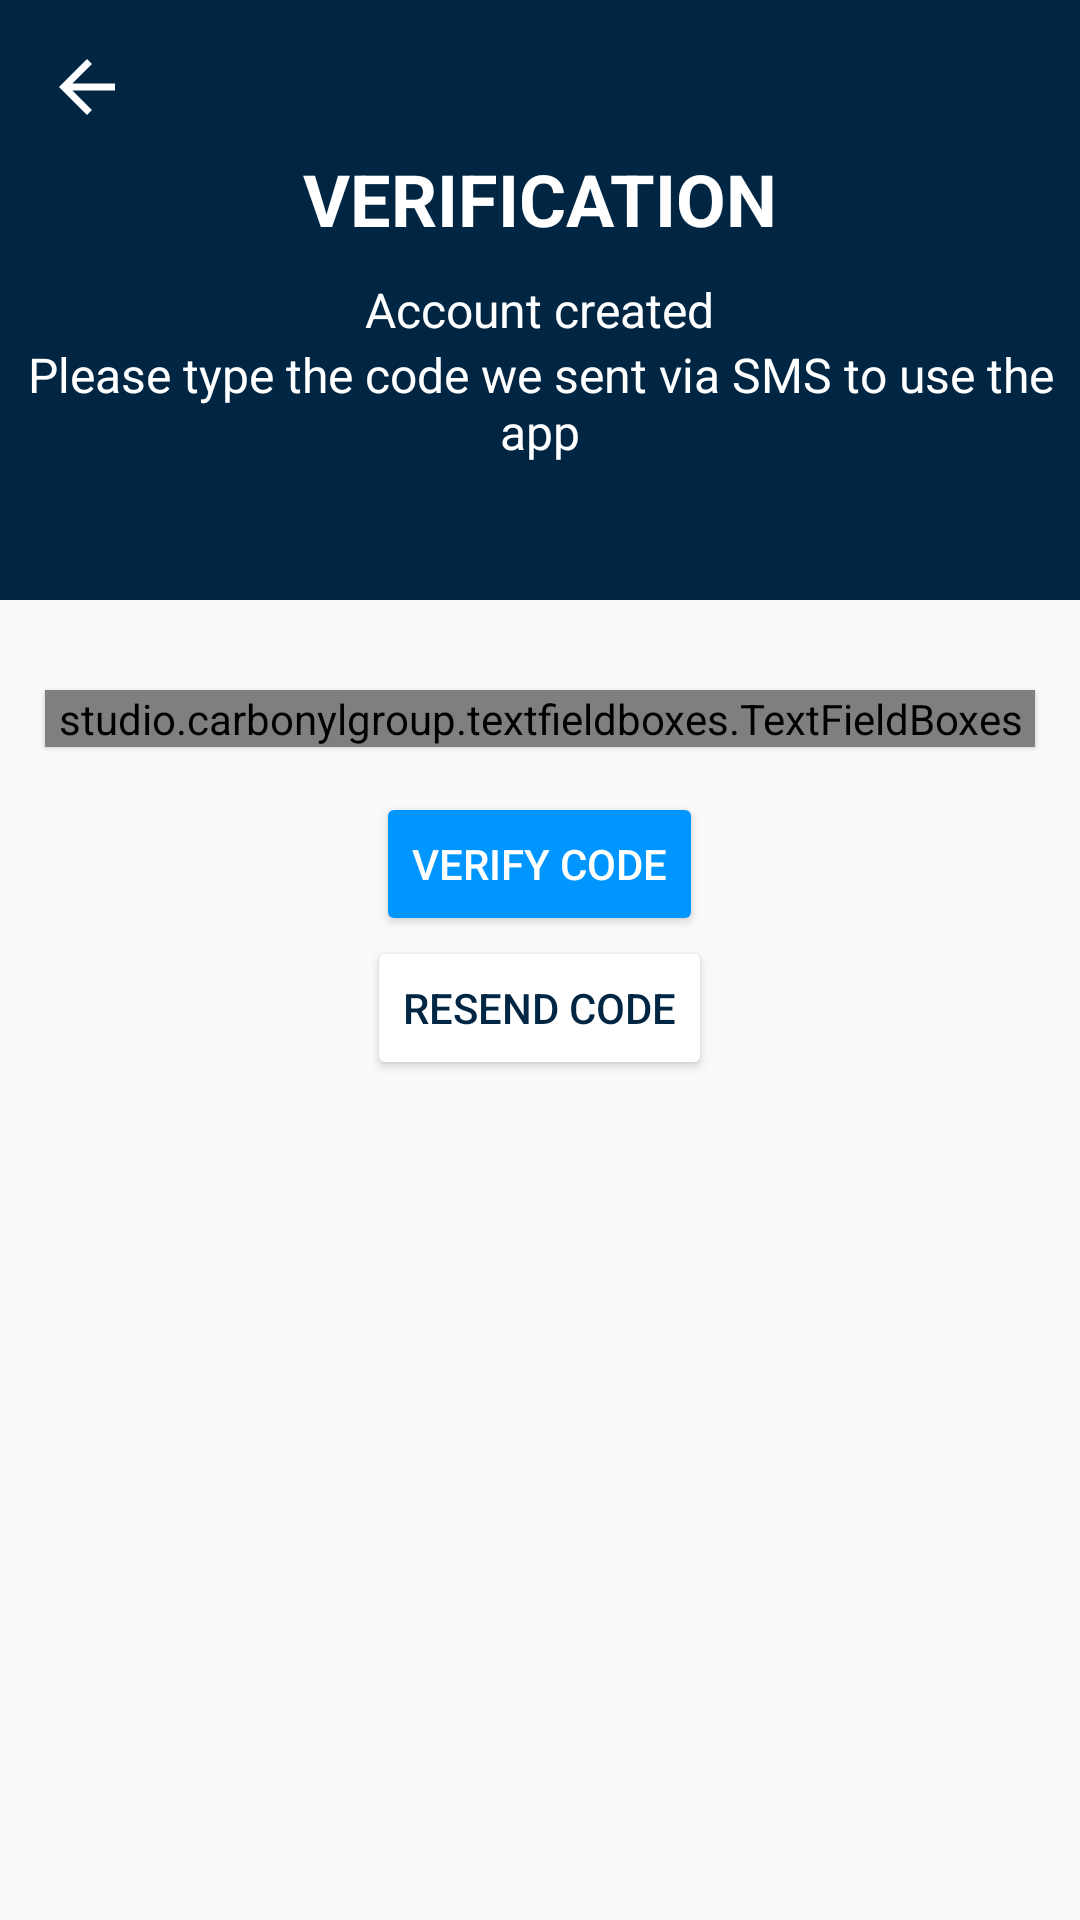

Icon click points for this 1080 x 1920 phone screenshot, format [x,y]:
back: [87,87]
